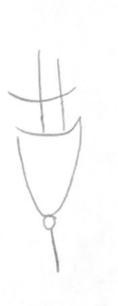XNOR: (6, 86, 103, 240)
